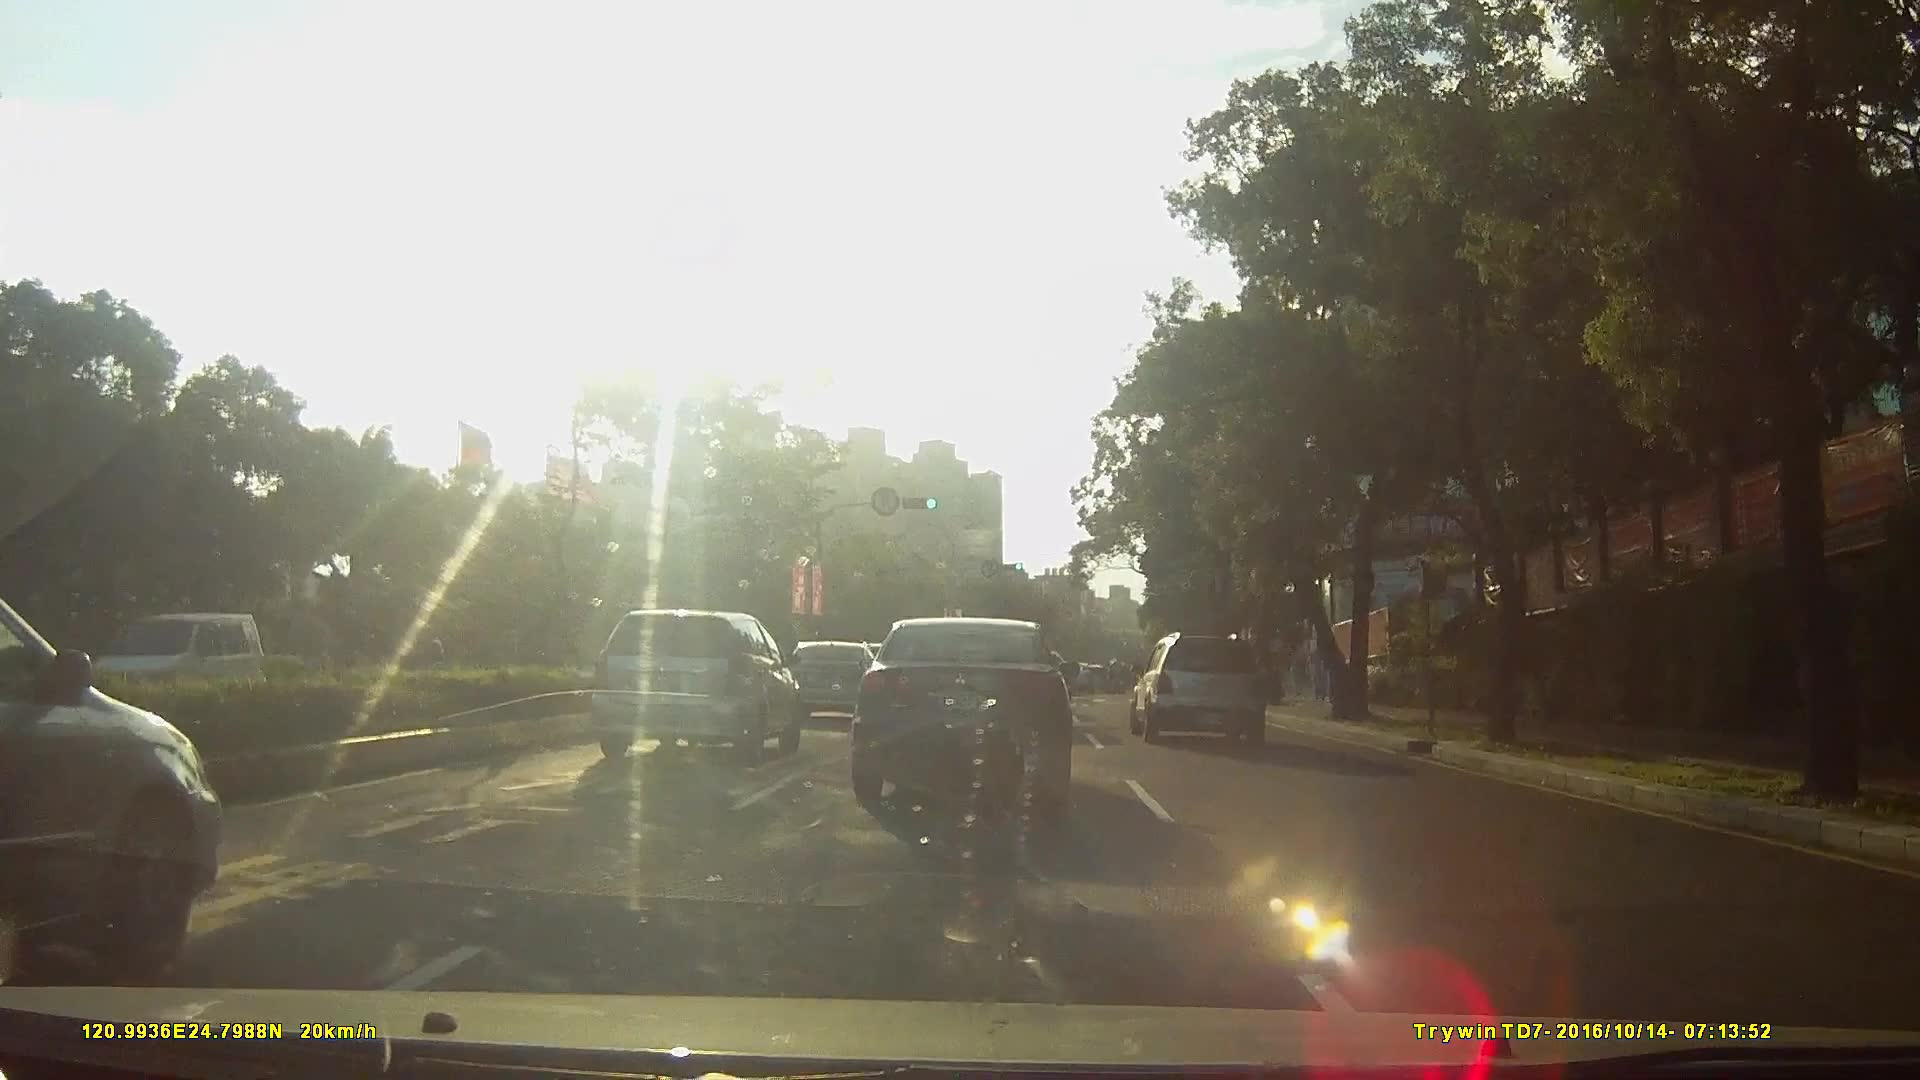vehicle: (1, 574, 247, 993), (851, 612, 1076, 815), (582, 607, 799, 761), (46, 604, 215, 713), (1130, 628, 1283, 742), (777, 640, 891, 723)
